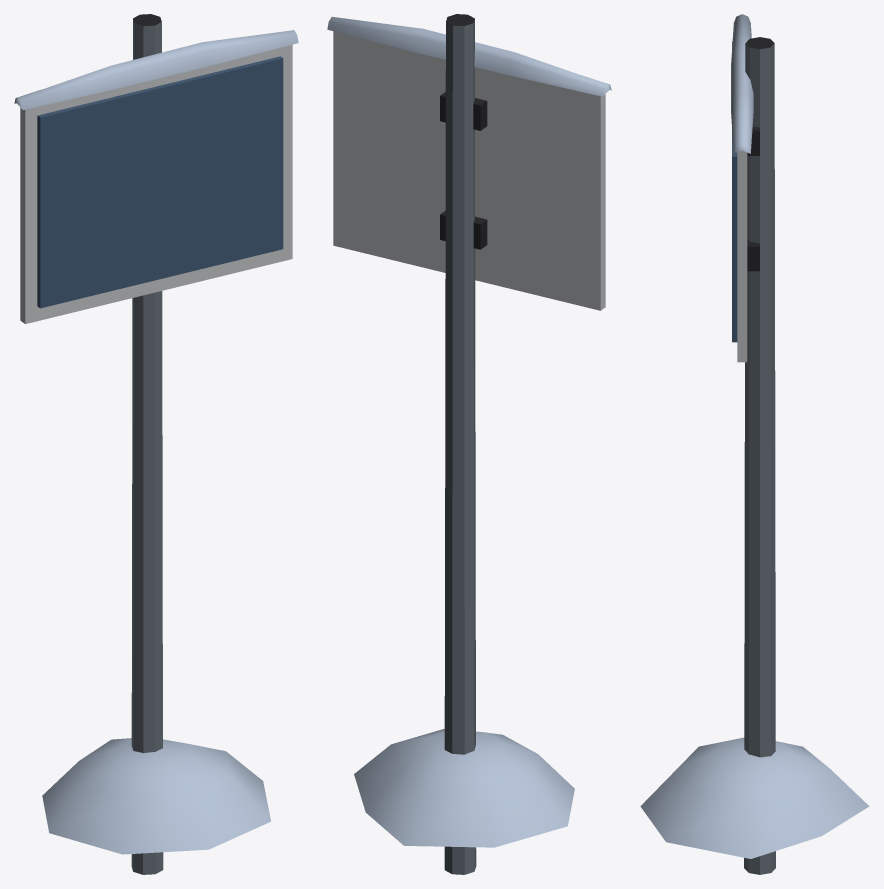
File: km_sign.glb
3 renders of one model, left to right at view 1: azimuth 30°, elevation 25°; view 2: azimuth 150°, elevation 25°; view 3: azimuth 270°, elevation 25°, orthographic. The views are drawn at different scales.
Parts seen in each view (by area): view 1: Prop, Panel; view 2: Prop; view 3: Prop, Panel.
Boxes of the visible parts, bbox=[...] form: Prop: bbox=[14, 14, 298, 874]; Panel: bbox=[37, 56, 283, 308]; Prop: bbox=[327, 14, 611, 874]; Prop: bbox=[640, 14, 869, 874]; Panel: bbox=[732, 41, 737, 342].
Size of the model in its own units: 0.692 by 2 by 0.5036.
